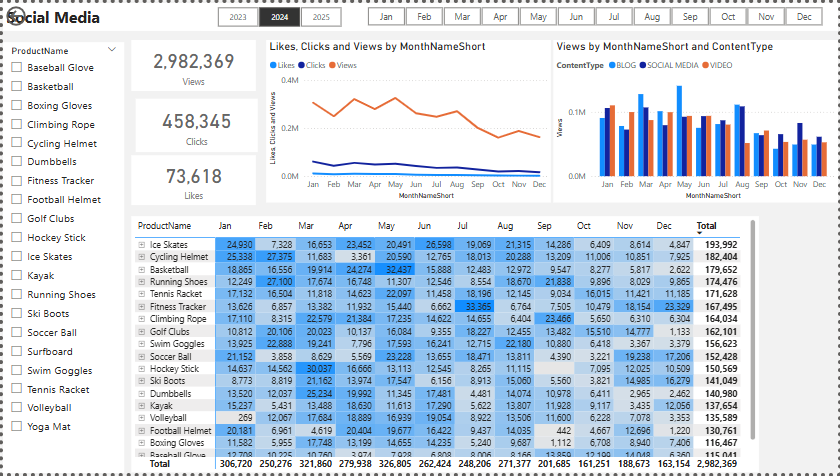

The page's visual inventory and layout, read from the dashboard file:
{"tool":"powerbi","page":{"name":"Social Media Details","canvas":[1280,720],"ordinal":2},"visuals":[{"type":"textbox","box":[0,0,1280.4,42.9],"z":0},{"type":"slicer","fields":{"Values":["dim_products.ProductName"]},"box":[0,58.9,185.7,660.7],"z":1000},{"type":"card","fields":{"Values":["_Calculations.Views"]},"box":[198.2,58.2,190.9,78.2],"z":2000},{"type":"card","fields":{"Values":["_Calculations.Clicks"]},"box":[201.8,145.5,187.3,81.8],"z":3000},{"type":"card","fields":{"Values":["_Calculations.Likes"]},"box":[198.2,234.5,190.9,76.4],"z":4000},{"type":"slicer","fields":{"Values":["Calendar.Year"]},"box":[303.6,0,239.3,42.9],"z":5000},{"type":"slicer","fields":{"Values":["Calendar.MonthNameShort"]},"box":[533.9,0,746.4,39.3],"z":6000},{"type":"actionButton","box":[0,0,100,40],"z":7000},{"type":"lineChart","fields":{"Category":["Calendar.MonthNameShort"],"Y":["_Calculations.Likes","_Calculations.Clicks","_Calculations.Views"]},"box":[401.8,58.2,436.4,249.1],"z":8000},{"type":"clusteredColumnChart","fields":{"Category":["Calendar.MonthNameShort"],"Y":["_Calculations.Views"],"Series":["fact_engagement_data.ContentType"]},"box":[843.6,58.2,436.4,249.1],"z":9000},{"type":"pivotTable","fields":{"Rows":["dim_products.ProductName","fact_engagement_data.ContentType"],"Columns":["Calendar.MonthNameShort"],"Values":["_Calculations.Views"]},"box":[198.2,325.5,961.8,392.7],"z":10000}]}

Visuals, with their boxes on the page's 1280x720 design canvas (x1, y1, x2, y2). These are canvas units, not pixel positions in the 840x476 screenshot, which may show the page scaled, cropped or inside an application window:
textbox: [0,0,1280,43]
slicer - dim_products.ProductName: [0,59,186,720]
card - _Calculations.Views: [198,58,389,136]
card - _Calculations.Clicks: [202,146,389,227]
card - _Calculations.Likes: [198,234,389,311]
slicer - Calendar.Year: [304,0,543,43]
slicer - Calendar.MonthNameShort: [534,0,1280,39]
actionButton: [0,0,100,40]
lineChart - Calendar.MonthNameShort x _Calculations.Likes: [402,58,838,307]
clusteredColumnChart - Calendar.MonthNameShort x _Calculations.Views: [844,58,1280,307]
pivotTable - dim_products.ProductName x fact_engagement_data.ContentType: [198,326,1160,718]
